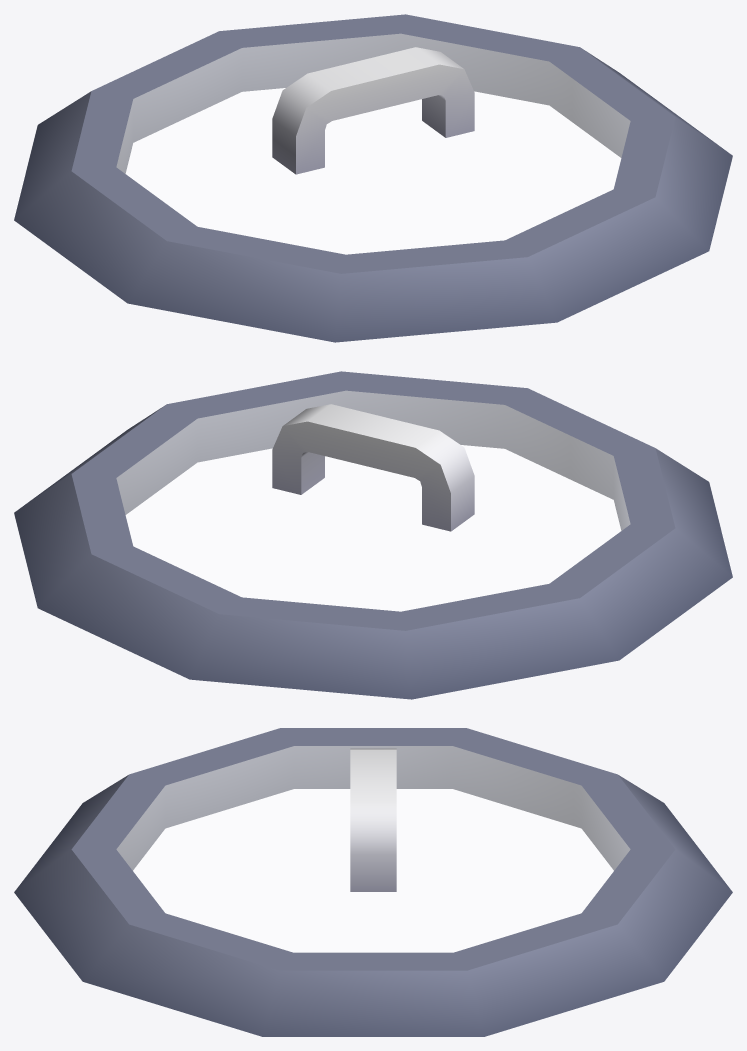
File: frying-pan-lid.glb
The picture shows the model from 3 angles, top to bottom: view 1: azimuth 30°, elevation 25°; view 2: azimuth 150°, elevation 25°; view 3: azimuth 270°, elevation 25°; orthographic projection. The views are drawn at different scales.
Parts seen in each view (by area): view 1: frying-pan-lid, (%ignore); view 2: frying-pan-lid, (%ignore); view 3: frying-pan-lid, (%ignore).
Part boxes in pixels (x1,y1,x2,y2): frying-pan-lid: (14, 14, 732, 342); (%ignore): (116, 33, 630, 254); frying-pan-lid: (14, 371, 732, 699); (%ignore): (116, 390, 630, 611); frying-pan-lid: (14, 728, 732, 1036); (%ignore): (116, 746, 630, 952).
Bounding box in the file's own units: 0.5767 × 0.1084 × 0.6064.
